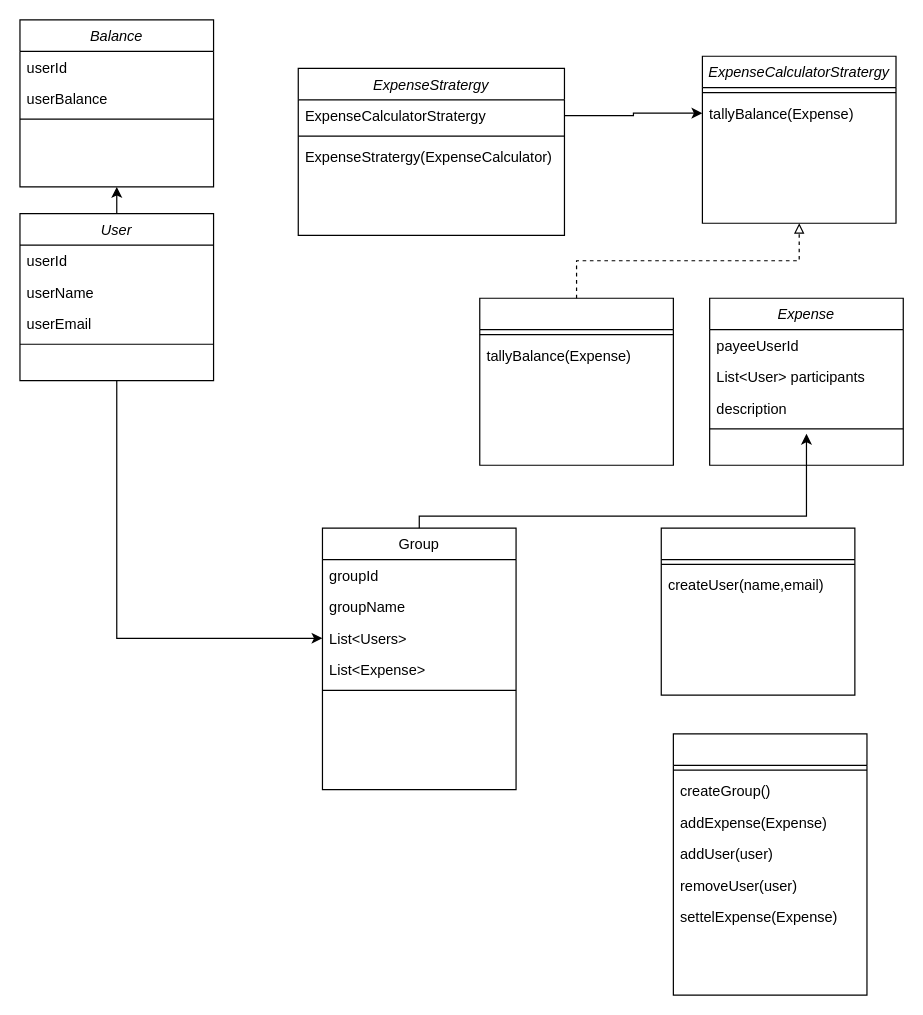
Image size: 923x1015. Some labels were removed from this diagram. The shapes that lost their labels are listed below. From the top down, each one's box as (x1, y1, x2, y2) in pixels, then its label:
(479, 297, 673, 465): EqualCalculatorStratergy
(660, 527, 855, 695): UserManager
(672, 733, 867, 995): GroupManager
